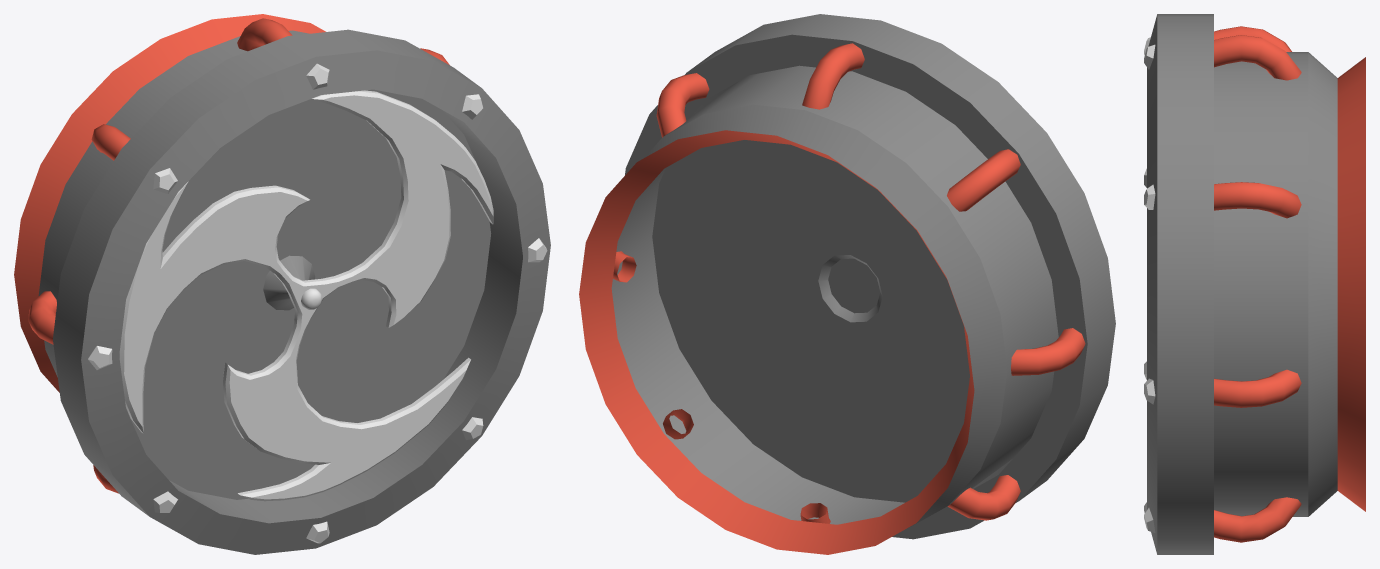
File: propeller_futuristic_3.fbx
3 renders of one model, left to right at view 1: azimuth 30°, elevation 25°; view 2: azimuth 150°, elevation 25°; view 3: azimuth 270°, elevation 25°, orthographic.
Parts seen in each view (by area): view 1: propeller_futuristic_3; view 2: propeller_futuristic_3; view 3: propeller_futuristic_3.
Boxes of the visible parts, x1=… form: propeller_futuristic_3: x1=14, y1=14, x2=550, y2=554; propeller_futuristic_3: x1=579, y1=14, x2=1115, y2=554; propeller_futuristic_3: x1=1144, y1=14, x2=1365, y2=554.
Bounding box in the file's own units: 185 × 185 × 74.77.
